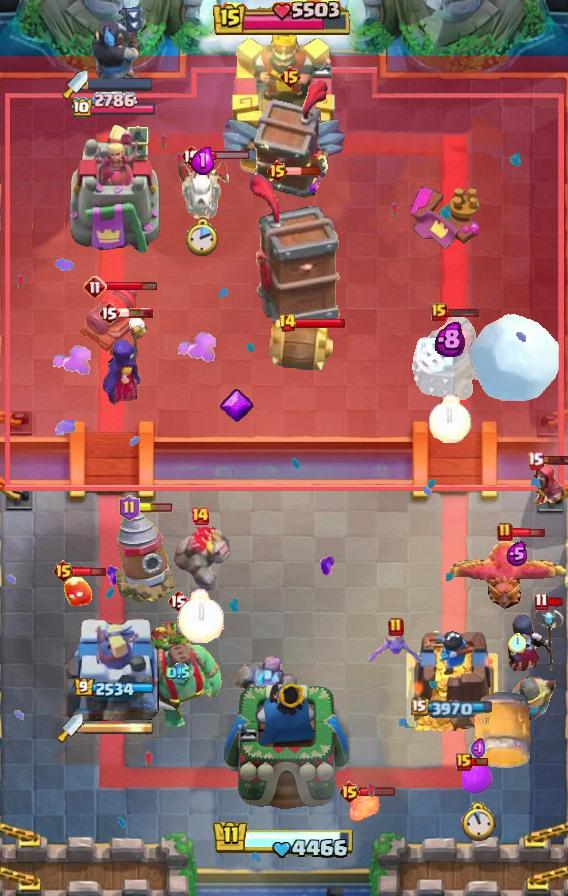axe: (101, 315, 149, 406)
bar: (67, 122, 161, 256), (66, 611, 162, 731)
barbarian: (367, 634, 425, 668)
bomber: (62, 575, 94, 609)
bowler: (530, 462, 566, 508)
clock: (212, 819, 356, 861), (213, 0, 355, 38)
dart-goblin: (249, 173, 340, 331), (251, 80, 329, 200)
dirt: (472, 691, 540, 771)
electro-spirit: (435, 321, 465, 357), (191, 145, 215, 175), (506, 541, 528, 567), (165, 662, 190, 684), (470, 738, 485, 760)
elixir: (177, 589, 224, 643), (428, 393, 471, 443), (186, 217, 220, 259), (460, 802, 495, 842), (508, 631, 526, 653)
emote: (294, 317, 346, 329), (105, 280, 158, 291), (200, 150, 251, 161), (510, 525, 545, 539), (73, 566, 108, 579), (118, 307, 154, 319), (359, 787, 397, 798), (444, 306, 479, 317), (137, 503, 173, 513), (286, 166, 321, 176), (540, 454, 567, 466), (546, 596, 565, 608), (469, 756, 489, 767)
firecracker: (496, 676, 556, 728)
golem: (407, 311, 493, 401)
ice-spirit-evolution: (346, 793, 382, 825)
inferno-dragon: (89, 3, 147, 103)
king-tower: (220, 21, 348, 181), (219, 678, 349, 826)
king-tower-bar: (83, 721, 155, 735), (88, 77, 152, 91)
lava-hound: (132, 618, 224, 730)
magic-archer: (115, 509, 175, 603)
miner: (462, 764, 494, 794)
mini-pekka: (175, 158, 231, 220)
mother-witch: (450, 537, 568, 611)
queen-tower: (405, 621, 501, 731)
rascal-boy: (504, 606, 568, 678)
royal-giant-evolution: (79, 285, 149, 359)
selected: (71, 92, 157, 120), (73, 677, 154, 699), (411, 698, 495, 719)
skeleton-king-skill: (220, 388, 256, 424)
text: (83, 275, 107, 299), (278, 65, 301, 89), (267, 159, 290, 183), (52, 559, 75, 583), (338, 780, 361, 804), (119, 495, 140, 521), (180, 144, 202, 168), (98, 301, 120, 325), (167, 589, 189, 613), (190, 506, 210, 526), (278, 313, 297, 333), (527, 451, 545, 469), (497, 522, 513, 542), (388, 617, 404, 637), (431, 303, 447, 321), (456, 753, 472, 771), (534, 593, 549, 611)
the-log: (262, 319, 336, 371)
valkyrie-evolution: (235, 650, 297, 726), (168, 527, 232, 595)
wall-breaker: (467, 312, 561, 404)
